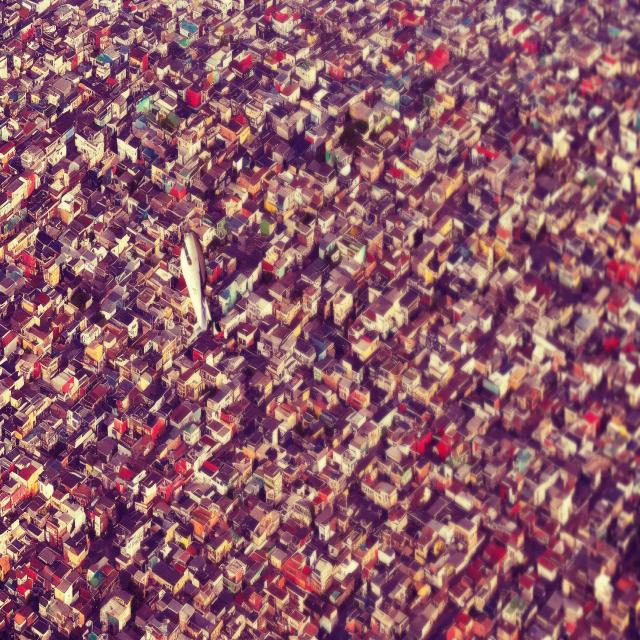airplane: (180, 230, 210, 330)
